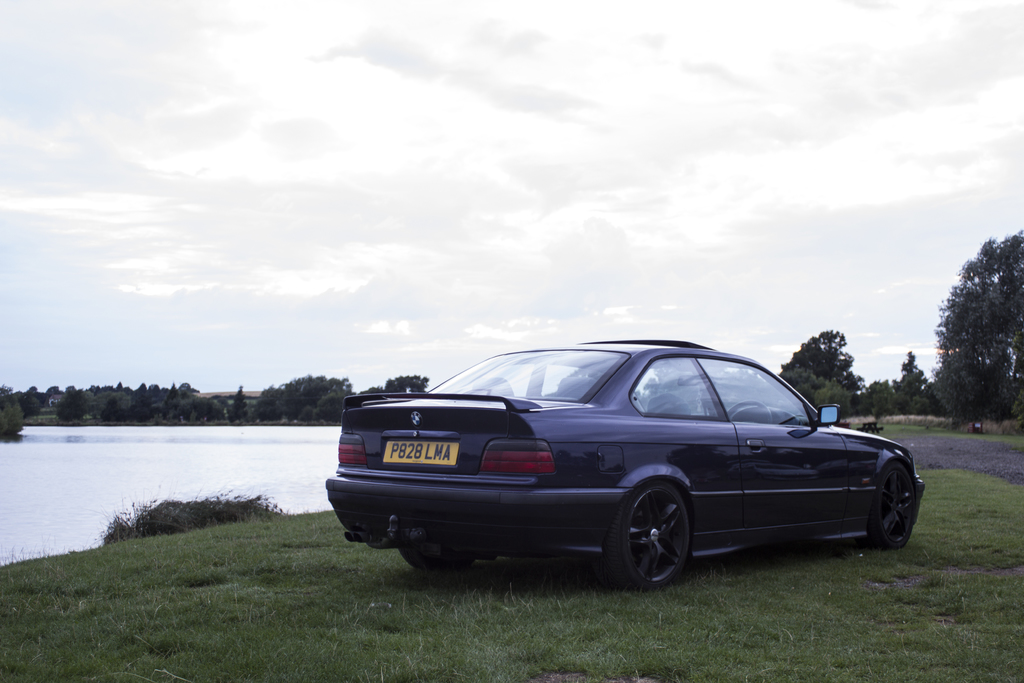mobil: (322, 332, 928, 589)
